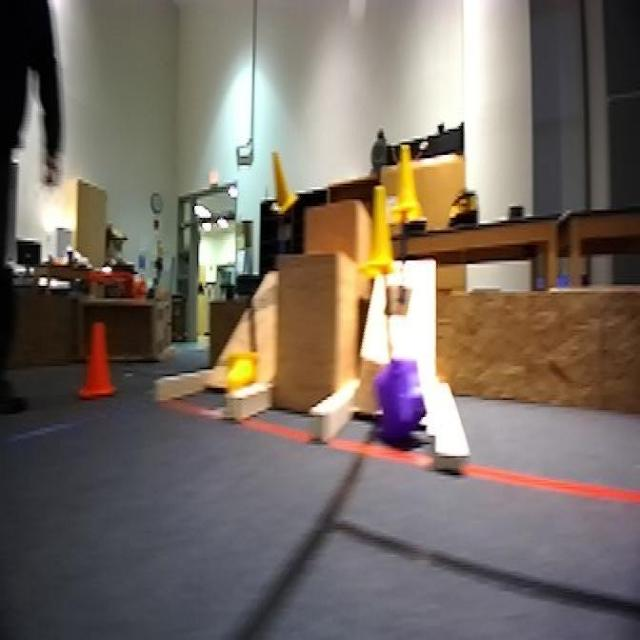frc_cone: (361, 184, 396, 277), (218, 338, 258, 414), (390, 145, 423, 223), (270, 151, 296, 218)
frc_cube: (368, 354, 423, 437)
